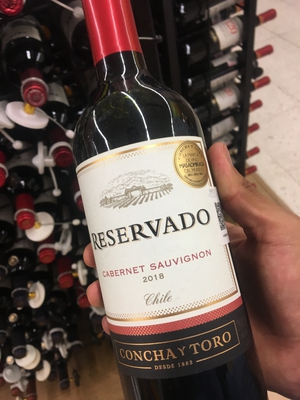reservado cabernet sauvignon: (70, 1, 270, 400)
